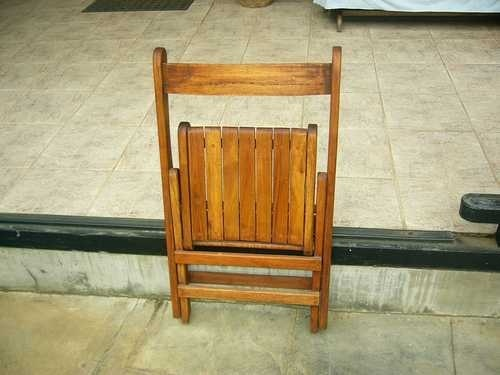obstacle: (153, 47, 340, 331)
